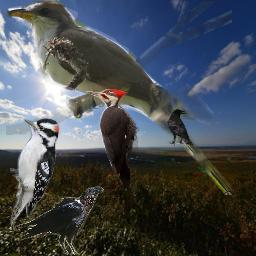Crow: (15, 186, 104, 255), (167, 109, 193, 146)
Cuckoo: (6, 1, 232, 195)
Woodpecker: (10, 113, 64, 229), (85, 89, 139, 192)
